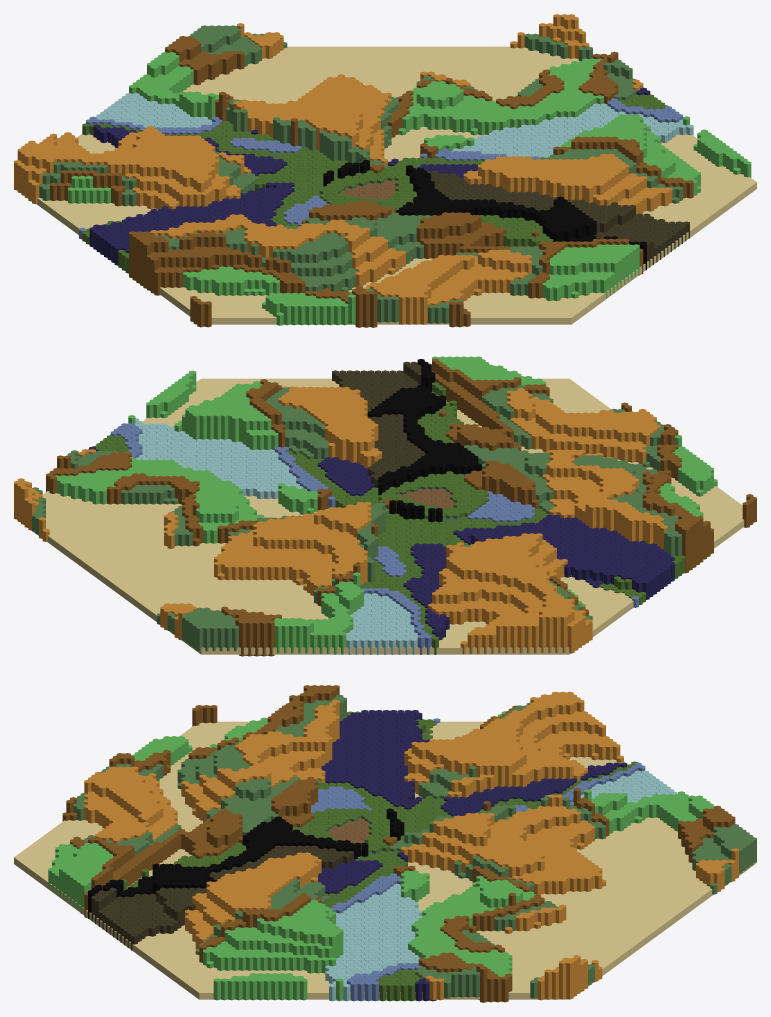
Rendered from 0002_tile_1200201.fbx.
3 views of the same model, one above another, from view 1: azimuth 30°, elevation 25°; view 2: azimuth 150°, elevation 25°; view 3: azimuth 270°, elevation 25° (orthographic).
Parts seen in each view (by area): view 1: Plane; view 2: Plane; view 3: Plane.
Part boxes in pixels (x1,y1,x2,y2): Plane: (14,14,756,327); Plane: (14,356,756,656); Plane: (14,685,756,1002).
Size of the model in its own units: 1008 by 74.52 by 1152.
